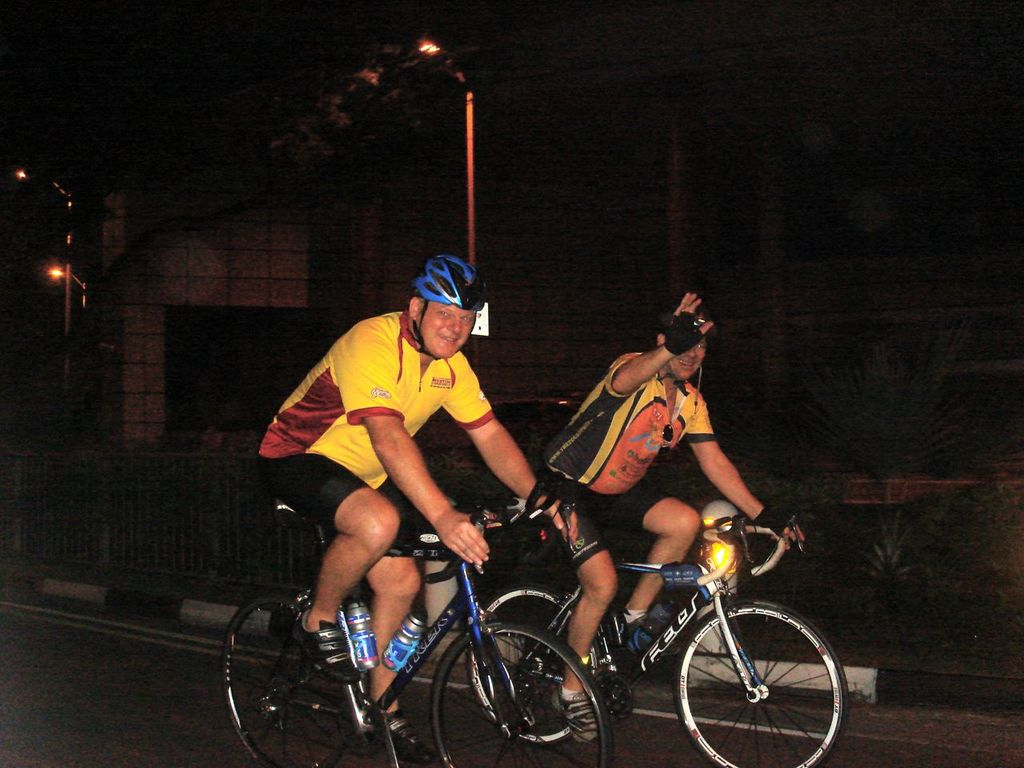Bicycle: (221, 477, 618, 767), (471, 509, 851, 767)
